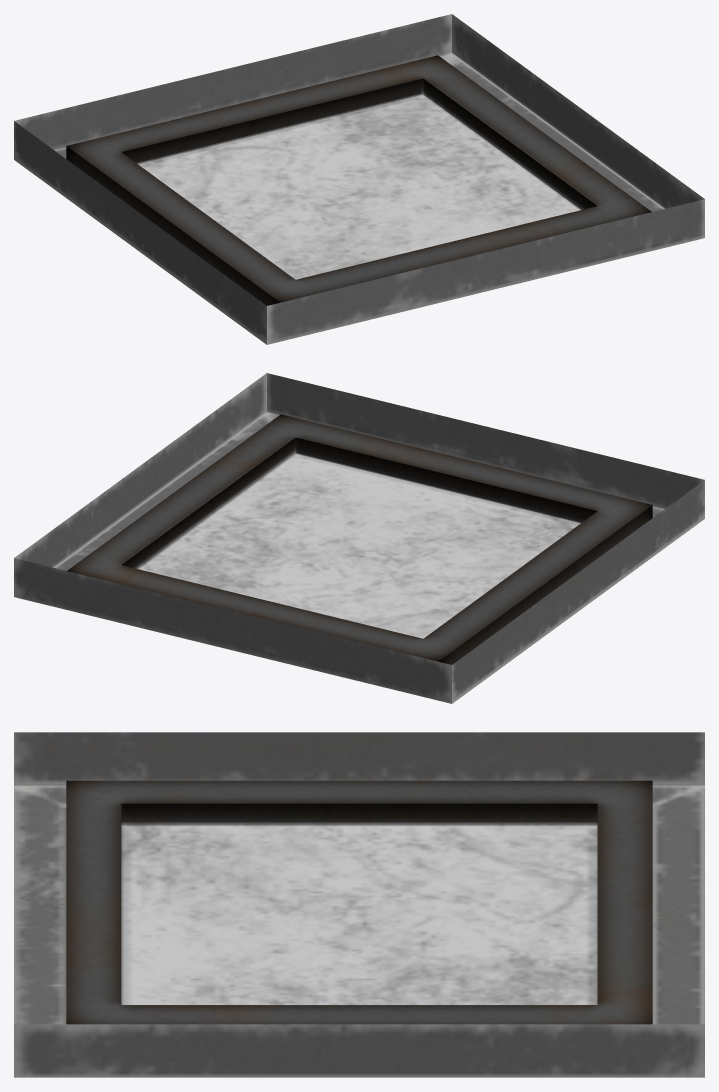
File: CeilingLight_Off.FBX
3 views of the same model, one above another, from view 1: azimuth 30°, elevation 25°; view 2: azimuth 150°, elevation 25°; view 3: azimuth 270°, elevation 25° (orthographic). The views are drawn at different scales.
Parts seen in each view (by area): view 1: CeilingLight_Off; view 2: CeilingLight_Off; view 3: CeilingLight_Off.
Boxes of the visible parts, x1,y1,x2,y2 form: CeilingLight_Off: (14,14,704,344); CeilingLight_Off: (14,373,704,703); CeilingLight_Off: (14,732,704,1077).
Size of the model in its own units: 94.7 by 8.05 by 94.7.
